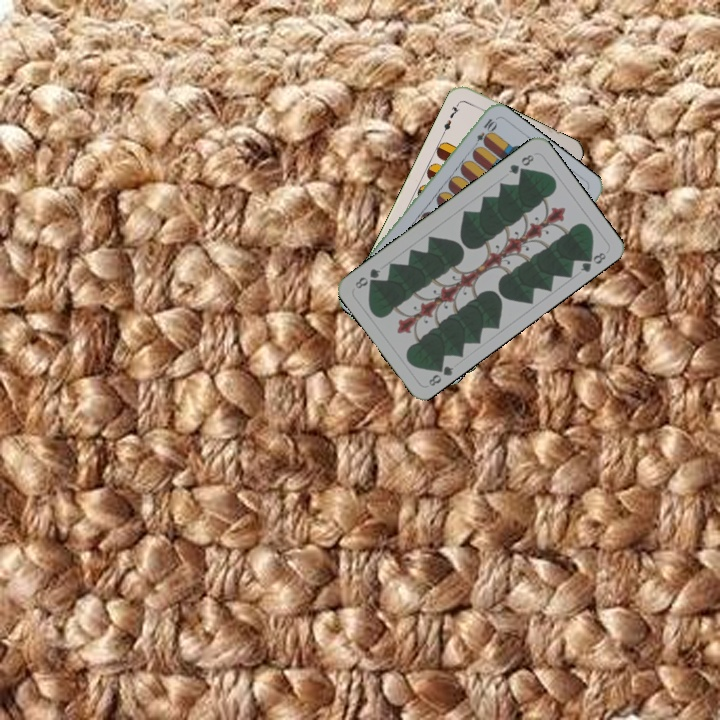E10: (469, 114, 499, 152)
E7: (438, 99, 462, 137)
G8: (424, 359, 456, 389), (504, 150, 537, 177)
